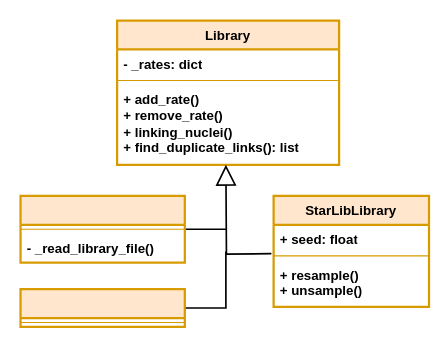
Image size: 448x346. Some labels were removed from this diagram. The box of each missing label's shape, as (x1, y1, x2, y2) in pixels:
ReacLibLibrary: (19, 194, 185, 263)
TabularWeakLibrary: (19, 287, 185, 327)
